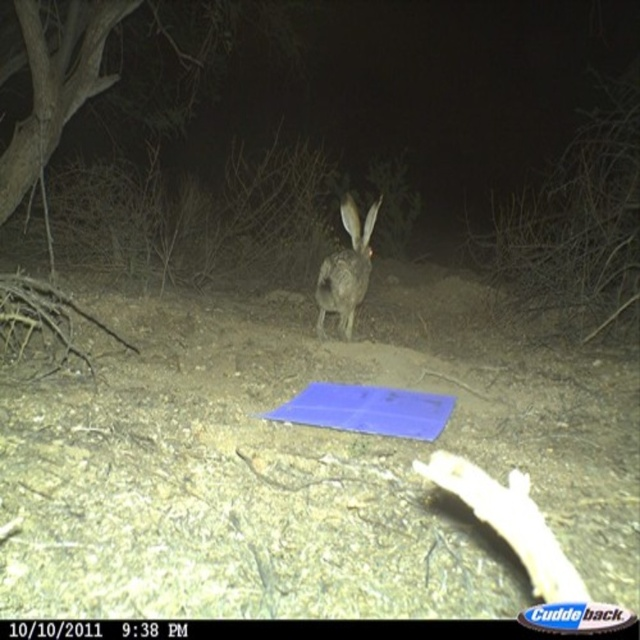Rabbit: (315, 189, 384, 341)
